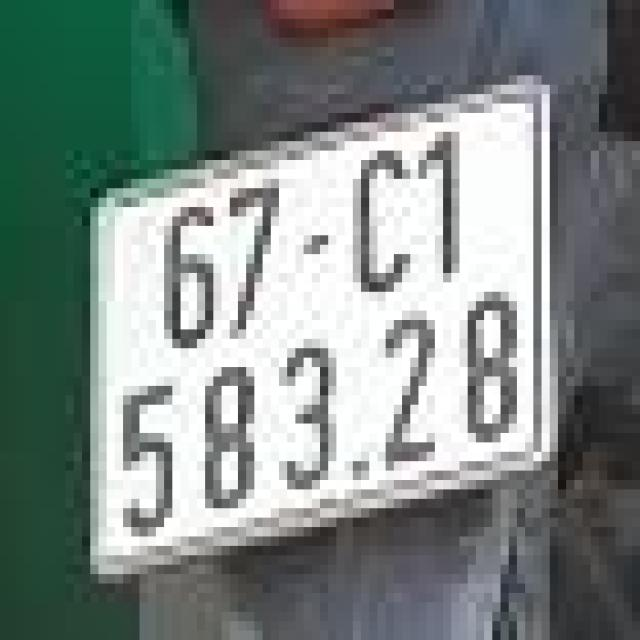1: (416, 120, 471, 294)
2: (372, 302, 446, 479)
3: (272, 329, 343, 499)
5: (115, 371, 185, 549)
6: (153, 195, 221, 364)
7: (220, 173, 284, 350)
8: (460, 280, 526, 451), (194, 354, 260, 520)
C: (349, 137, 419, 311)
